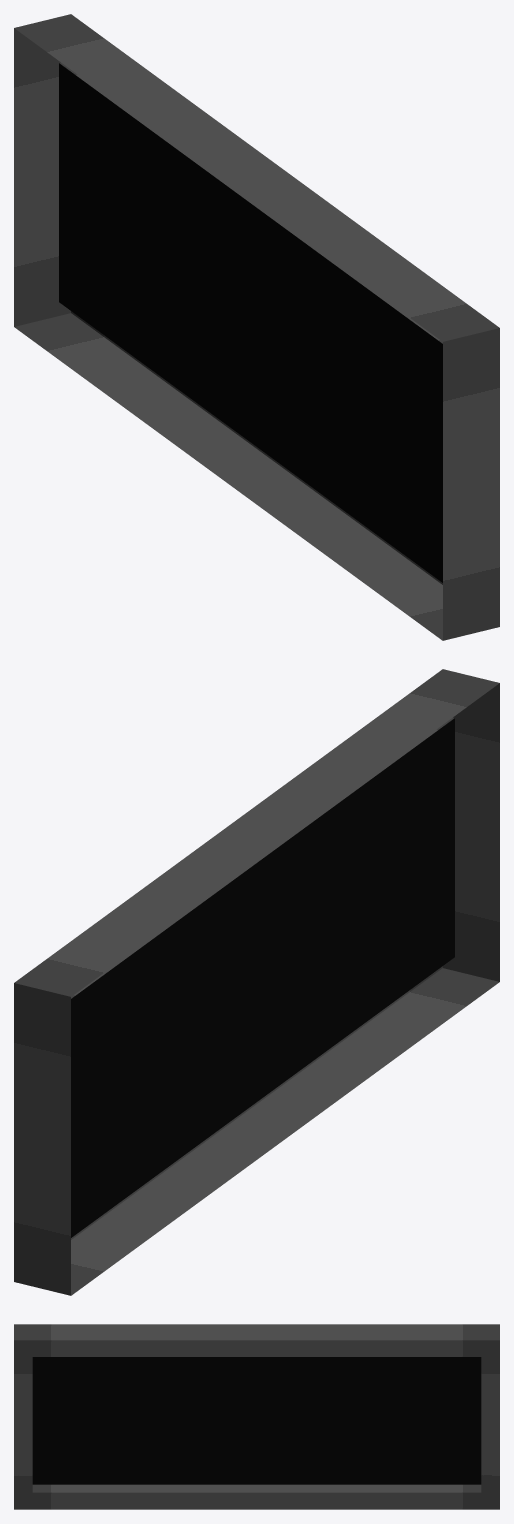
File: numitron.obj
3 views of the same model, one above another, from view 1: azimuth 30°, elevation 25°; view 2: azimuth 150°, elevation 25°; view 3: azimuth 270°, elevation 25° (orthographic). The views are drawn at different scales.
Visible parts, largest first — view 1: Plane; view 2: Plane; view 3: Plane.
Part boxes in pixels (<box>): Plane: <box>14,14,499,640</box>; Plane: <box>14,669,499,1295</box>; Plane: <box>14,1324,499,1509</box>.
Bounding box in the file's own units: 0.0625 × 0.3125 × 0.8125.
